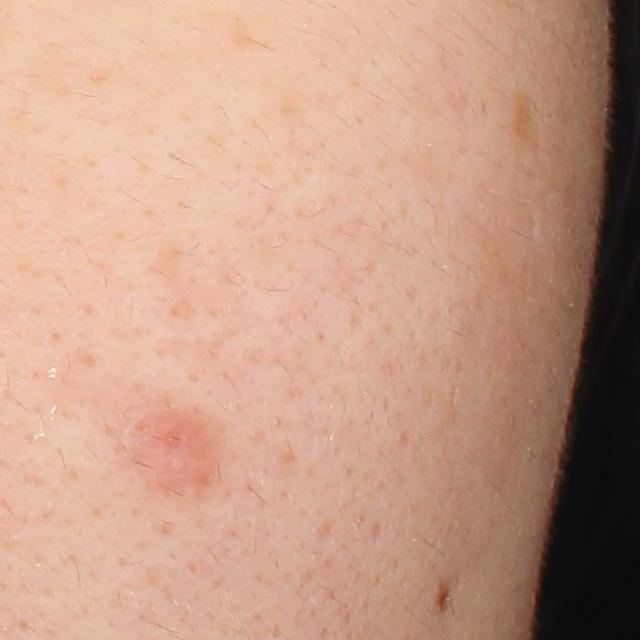melasma: (506, 86, 549, 153)
nevus: (432, 575, 456, 617)
papule: (126, 406, 234, 489)
